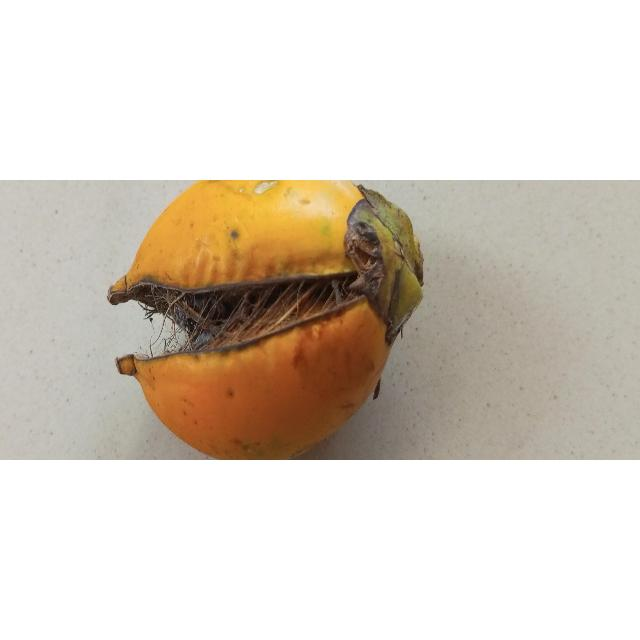damaged: (106, 180, 424, 461)
